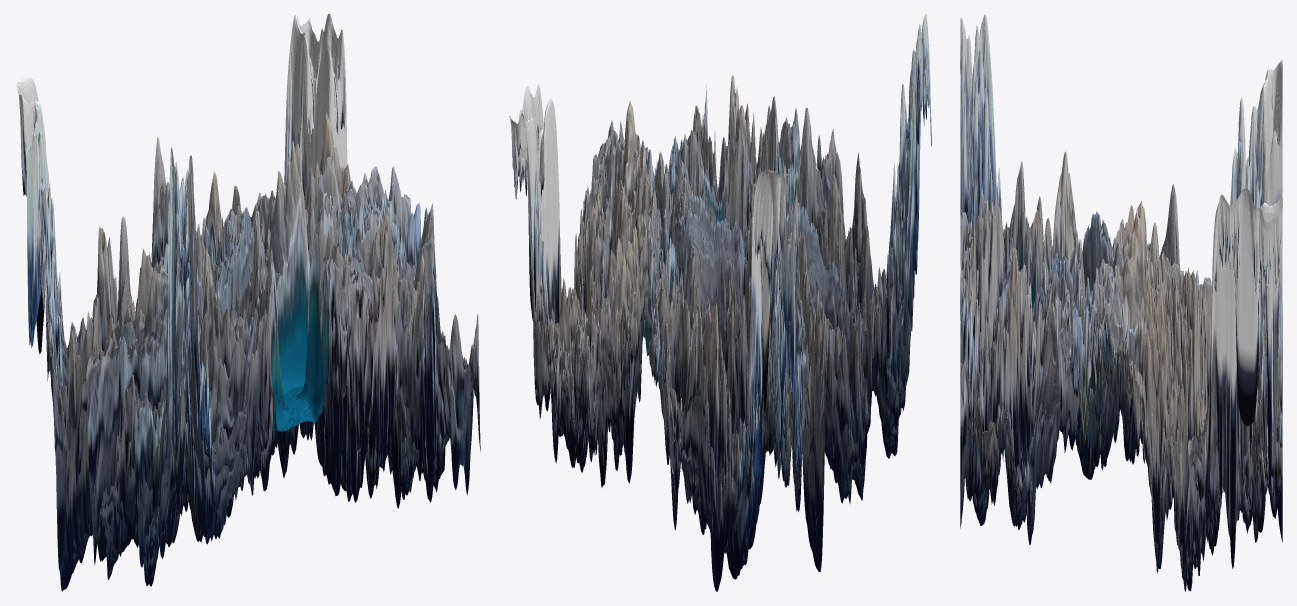
File: terrain-lod2.glb
3 renders of one model, left to right at view 1: azimuth 30°, elevation 25°; view 2: azimuth 150°, elevation 25°; view 3: azimuth 270°, elevation 25°, orthographic. The views are drawn at different scales.
Parts seen in each view (by area): view 1: geometry_0; view 2: geometry_0; view 3: geometry_0.
Part boxes in pixels (box(x1,y1,x2,y2)): geometry_0: box(14, 14, 480, 591); geometry_0: box(509, 14, 931, 591); geometry_0: box(960, 14, 1282, 591).
Size of the model in its own units: 2046 by 3492 by 2046.
Materials: 1 (1 with a texture image).
